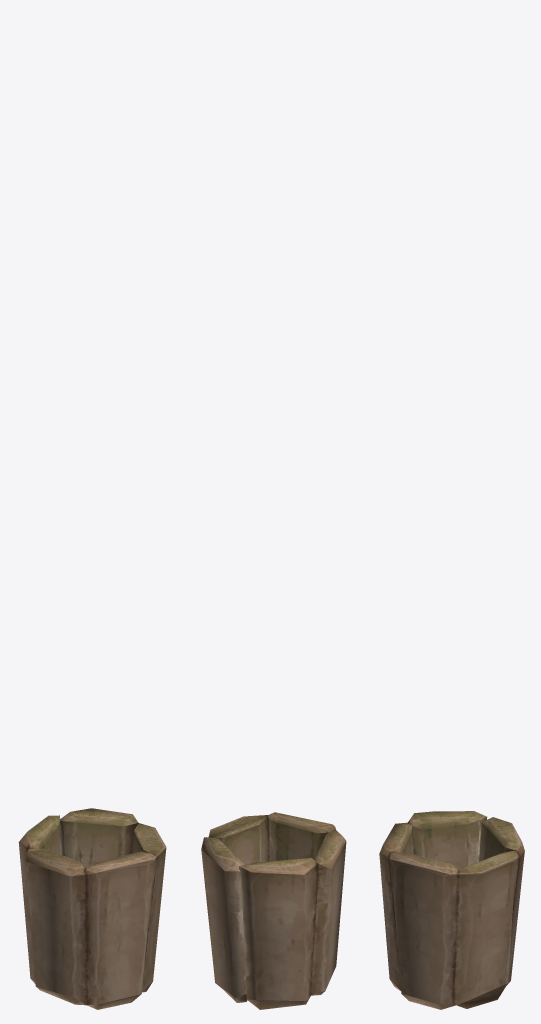
File: ChainBucket.fbx
The picture shows the model from 3 angles, left to right: view 1: azimuth 30°, elevation 25°; view 2: azimuth 150°, elevation 25°; view 3: azimuth 330°, elevation 25°; orthographic projection.
Visible parts, largest first — view 1: ChainBucket; view 2: ChainBucket; view 3: ChainBucket.
Part boxes in pixels (box(x1,y1,x2,y2)): ChainBucket: box(18, 808, 166, 1009); ChainBucket: box(201, 812, 346, 1009); ChainBucket: box(379, 811, 524, 1009).
Bounding box in the file's own units: 0.4051 × 2.87 × 0.3727.
